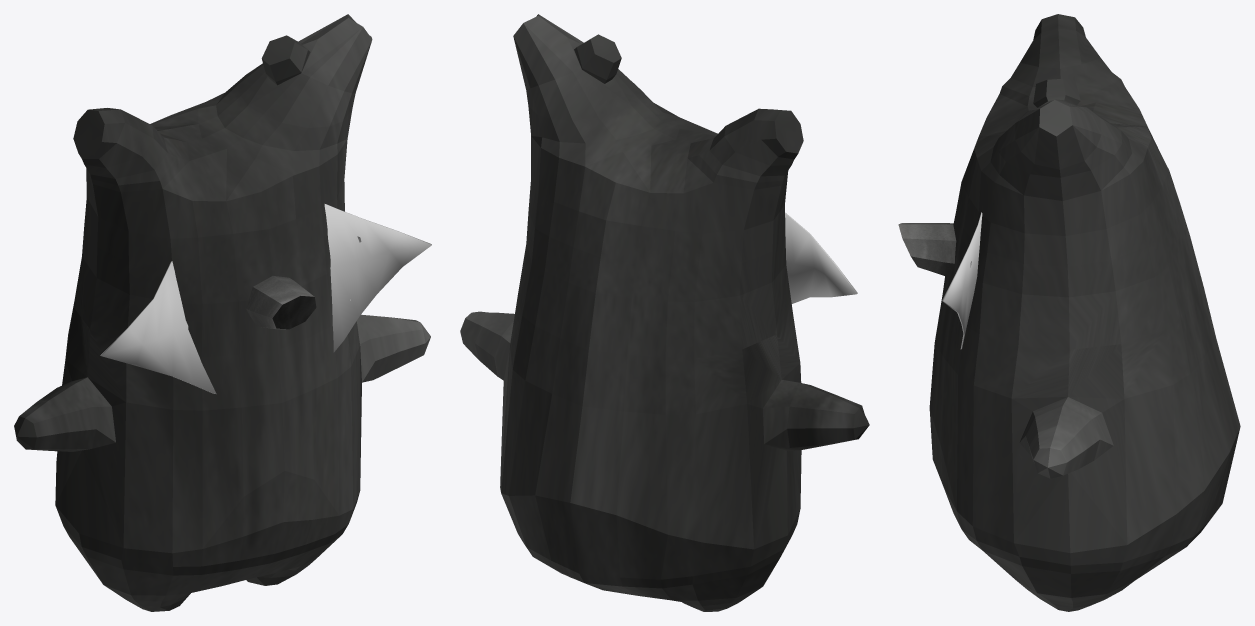
The model's file is frame_0018.obj.
The picture shows the model from 3 angles, left to right: view 1: azimuth 30°, elevation 25°; view 2: azimuth 150°, elevation 25°; view 3: azimuth 270°, elevation 25°; orthographic projection.
Parts seen in each view (by area): view 1: korok, leaf, nose; view 2: korok, leaf; view 3: korok, nose, leaf.
Part boxes in pixels (x1,y1,x2,y2): korok: [14, 14, 430, 611]; leaf: [100, 204, 431, 394]; nose: [246, 276, 316, 329]; korok: [460, 14, 869, 611]; leaf: [785, 212, 857, 303]; korok: [929, 14, 1240, 611]; nose: [898, 223, 956, 277]; leaf: [942, 212, 982, 349].
Size of the model in its own units: 1.76 by 2.25 by 1.28.
